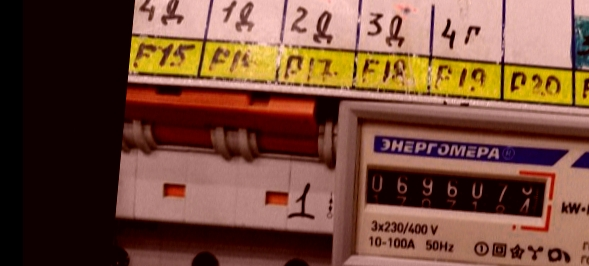0: (471, 178, 488, 201), (371, 172, 387, 194)
4: (519, 196, 534, 218)
6: (396, 173, 412, 196), (446, 178, 461, 199)
7: (495, 182, 512, 205)
9: (421, 176, 436, 198)
screen: (352, 154, 563, 231)
